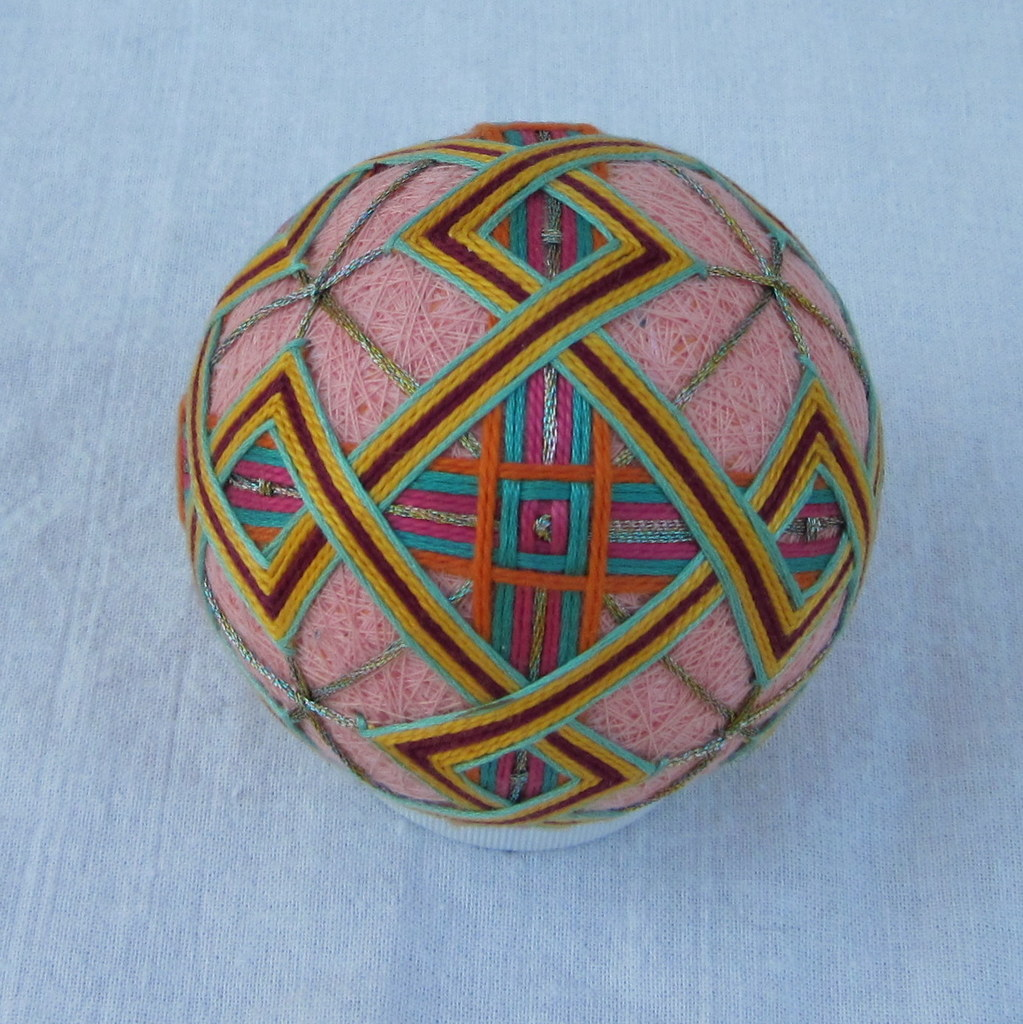Ball: (171, 119, 889, 830)
